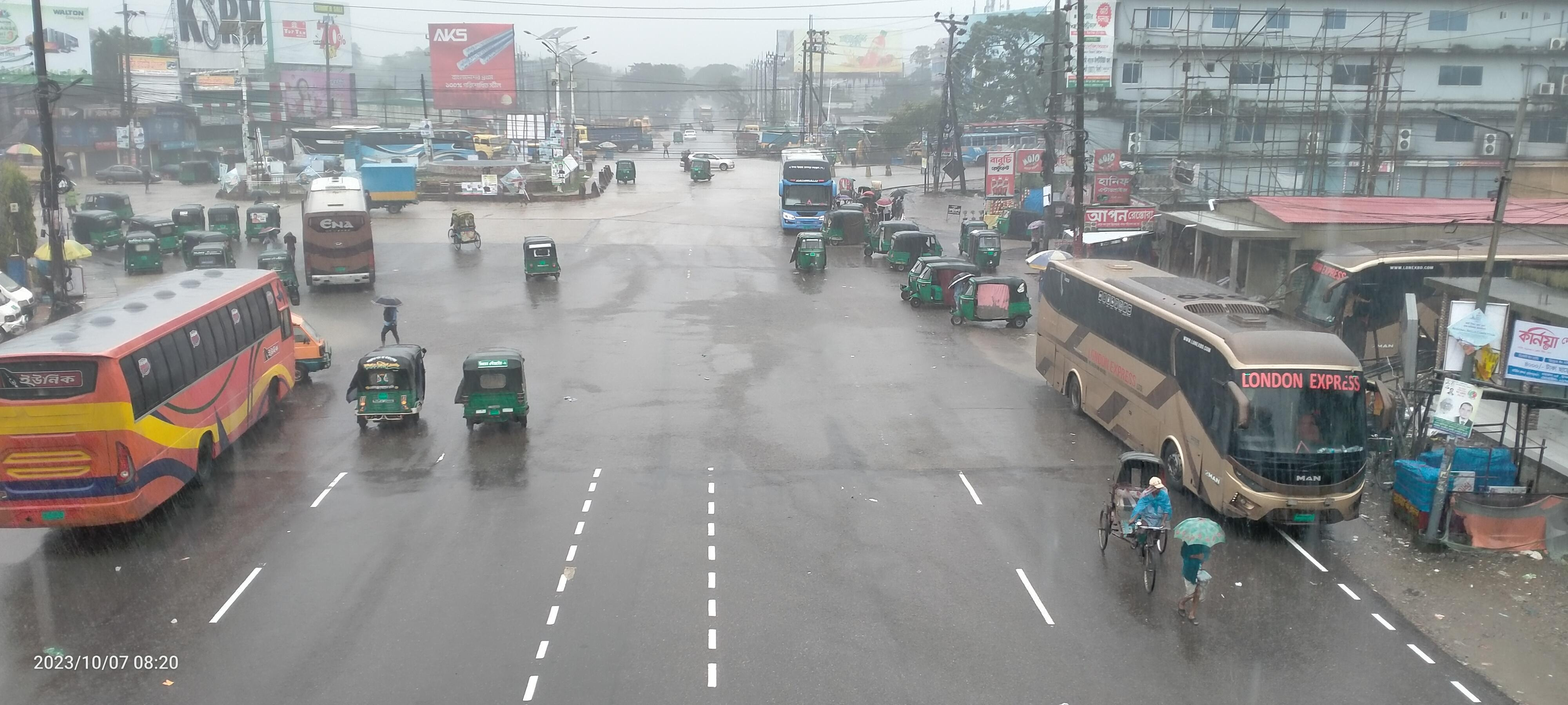Bus: (0, 252, 347, 598), (1024, 237, 1402, 553), (271, 103, 436, 226), (289, 169, 389, 306), (765, 136, 850, 224)
Car: (1080, 404, 1196, 611), (439, 190, 491, 257), (673, 136, 739, 175)
Truck: (469, 113, 506, 164)
